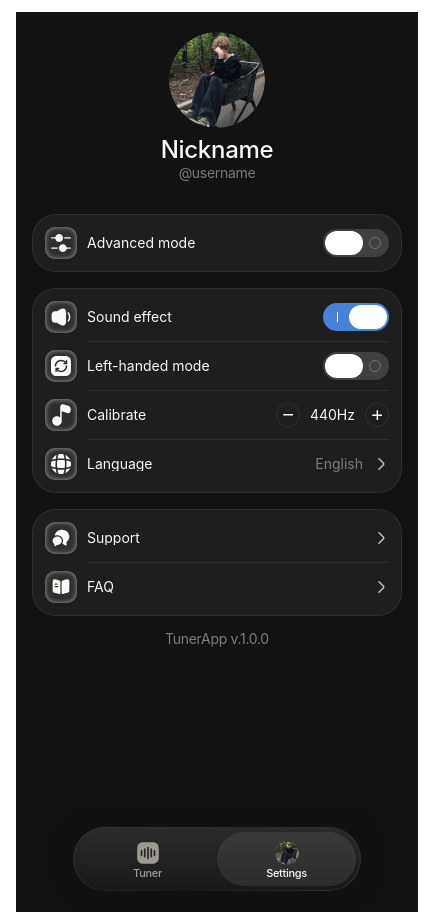
Test: AppShell › navigates back to Simple Tuner from Settings when tunerMode is simple
Click the button "Tuner" at (148, 859), box [78,832,217,886]
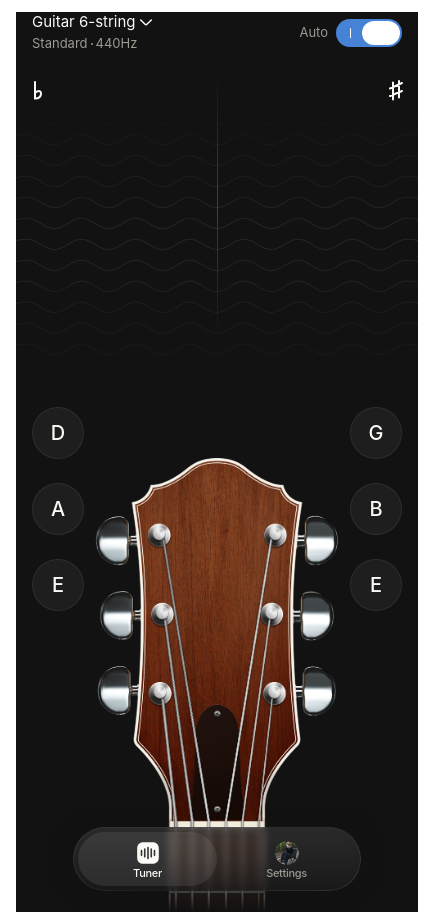
Expected: the text "Guitar 6-string" is shown, [32,12,136,31]
